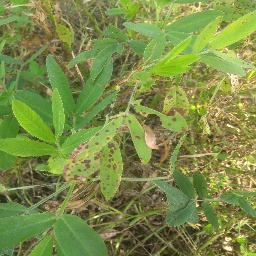GroundNut_Leaf: (80, 57, 114, 119), (58, 213, 107, 256), (208, 8, 254, 52), (1, 212, 57, 248), (63, 123, 96, 183), (11, 98, 56, 138), (44, 48, 78, 97), (156, 37, 196, 76), (126, 115, 154, 164), (99, 141, 120, 201), (154, 178, 187, 210), (201, 55, 250, 76), (162, 12, 206, 35), (1, 139, 57, 155), (123, 22, 161, 36), (201, 204, 220, 232), (54, 22, 74, 45), (1, 93, 10, 140), (195, 173, 209, 200), (240, 196, 255, 218), (1, 54, 21, 66), (1, 16, 24, 26), (29, 61, 40, 75)
